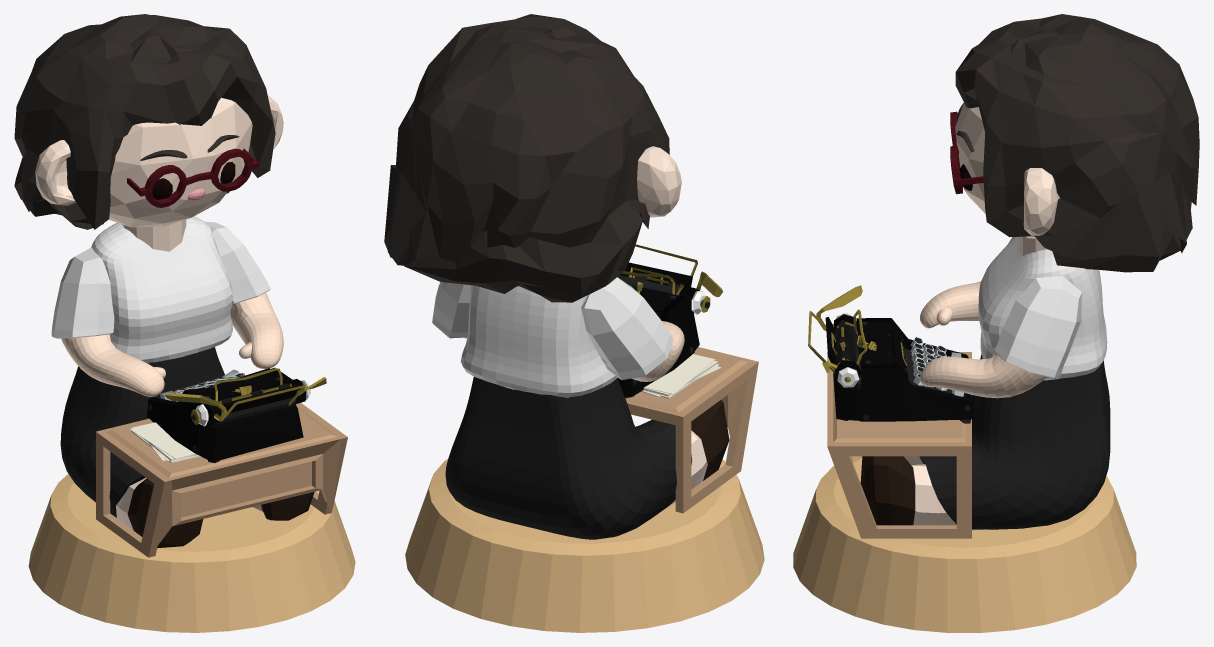
File: marta_escritora.fbx
3 renders of one model, left to right at view 1: azimuth 30°, elevation 25°; view 2: azimuth 150°, elevation 25°; view 3: azimuth 270°, elevation 25°, orthographic. The views are drawn at different scales.
Visible parts, largest first — view 1: Cylinder.008, Sphere.009, Cube.028, Cube.049, Node.004, Roundcube.025, Cube.032, Cube.044, Roundcube.026, Cube.030, Cylinder.005, Cube.029 (+4 smaller); view 2: Sphere.009, Cylinder.008, Cube.032, Cube.049, Cube.028, Cube.044, Node.004, Cube.029, Cube.030, Paper.001, Roundcube.026, Cube.031; view 3: Sphere.009, Cylinder.008, Cube.032, Node.004, Cube.028, Cube.049, Cube.044, Roundcube.026, Cube.030, Roundcube.025, Cube.029, Cube.031 (+1 smaller).
Part boxes in pixels (bbox=[...]): Cylinder.008: bbox=[28, 474, 355, 632]; Sphere.009: bbox=[14, 14, 275, 229]; Cube.028: bbox=[96, 403, 347, 557]; Cube.049: bbox=[91, 216, 232, 362]; Node.004: bbox=[147, 367, 326, 462]; Roundcube.025: bbox=[109, 97, 252, 227]; Cube.032: bbox=[60, 347, 224, 517]; Cube.044: bbox=[51, 221, 270, 338]; Roundcube.026: bbox=[61, 292, 283, 396]; Cube.030: bbox=[127, 478, 314, 548]; Cylinder.005: bbox=[127, 148, 258, 207]; Cube.029: bbox=[35, 95, 283, 205]; Sphere.009: bbox=[384, 14, 669, 302]; Cylinder.008: bbox=[405, 459, 764, 632]; Cube.032: bbox=[445, 377, 692, 539]; Cube.049: bbox=[460, 285, 617, 397]; Cube.028: bbox=[625, 347, 758, 513]; Cube.044: bbox=[432, 277, 673, 380]; Node.004: bbox=[617, 244, 723, 398]; Cube.029: bbox=[637, 146, 681, 217]; Cube.030: bbox=[691, 400, 729, 480]; Paper.001: bbox=[641, 354, 721, 398]; Roundcube.026: bbox=[464, 321, 684, 381]; Cube.031: bbox=[667, 430, 707, 507]; Sphere.009: bbox=[955, 14, 1199, 272]; Cylinder.008: bbox=[793, 456, 1136, 632]; Cube.032: bbox=[919, 353, 1110, 529]; Node.004: bbox=[808, 285, 973, 423]; Cube.028: bbox=[827, 352, 971, 538]; Cube.049: bbox=[978, 237, 1107, 380]; Cube.044: bbox=[994, 237, 1081, 378]; Roundcube.026: bbox=[920, 281, 1046, 398]; Cube.030: bbox=[860, 456, 915, 525]; Roundcube.025: bbox=[955, 103, 1059, 238]; Cube.029: bbox=[1023, 168, 1057, 235]; Cube.031: bbox=[904, 456, 987, 530].
Size of the model in its own units: 30.26 by 52.23 by 35.82.
